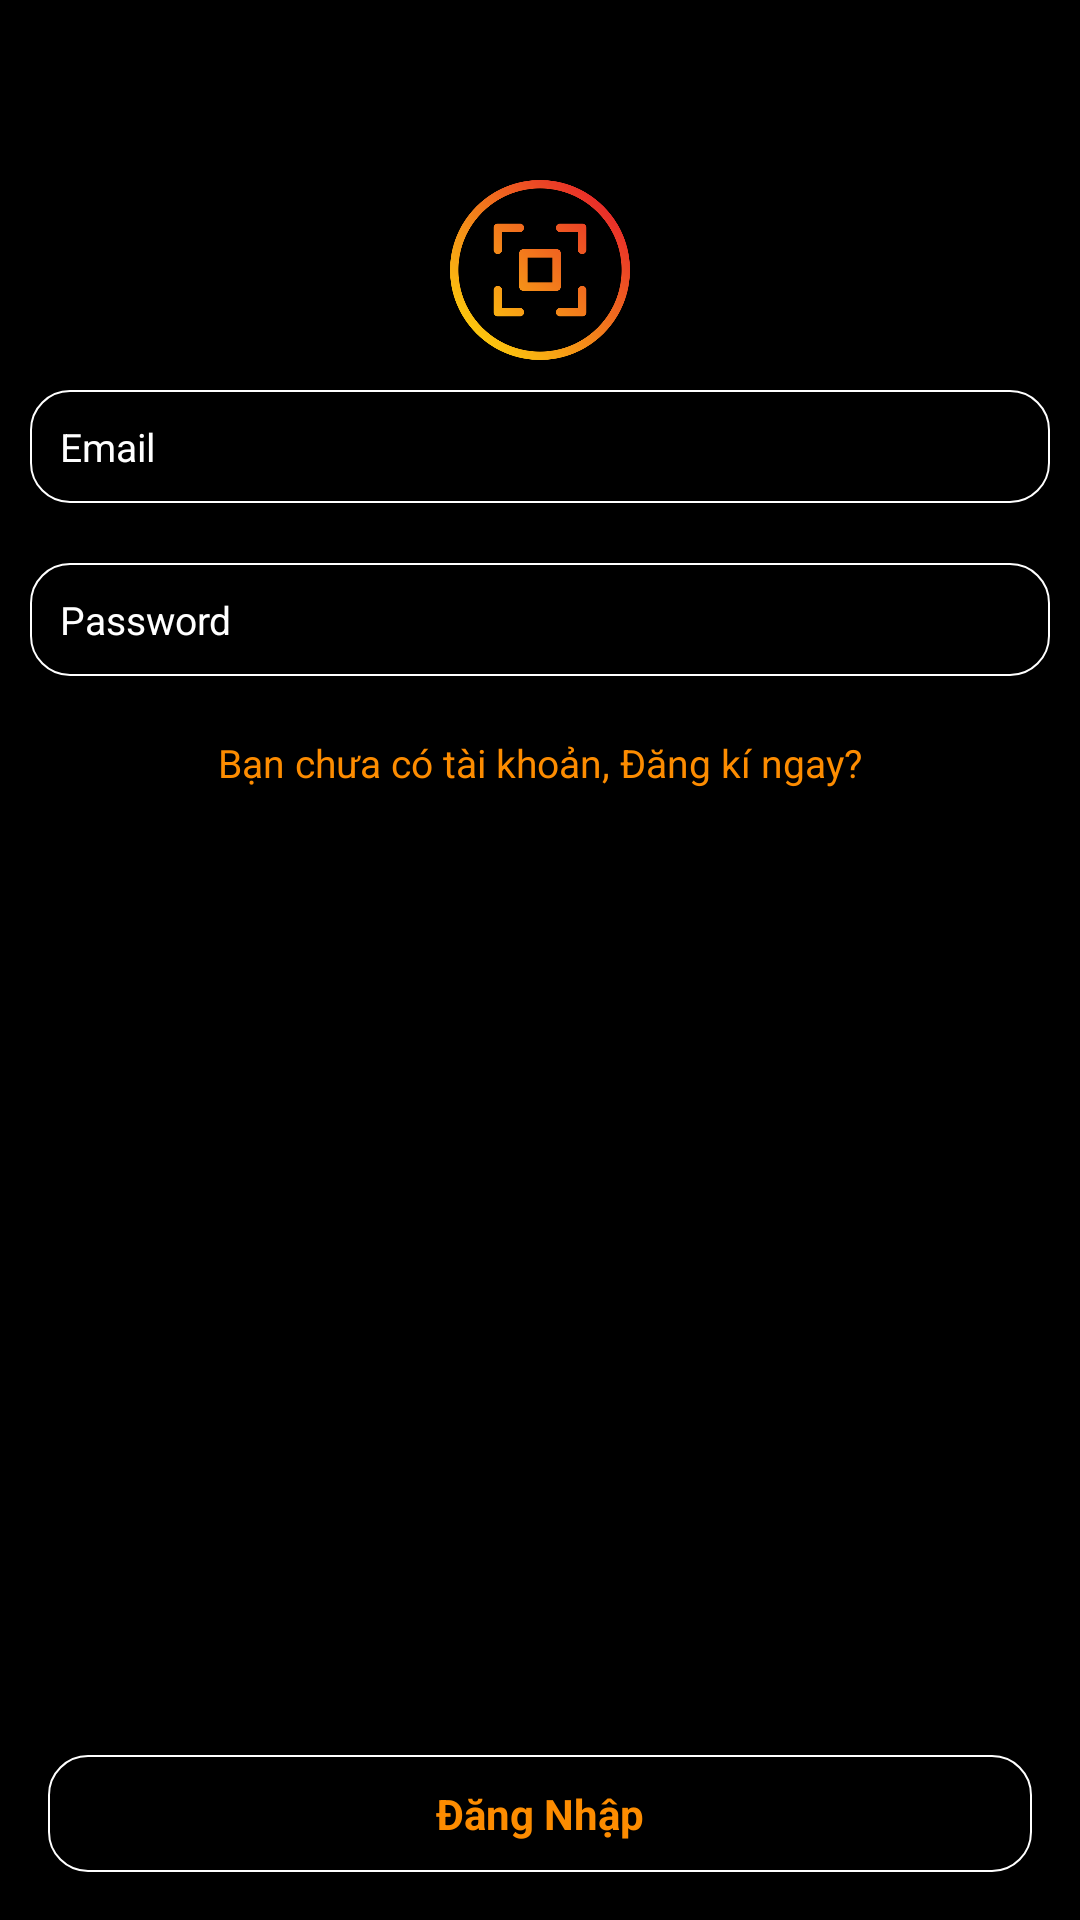

Icons on this 1080*1920 Android screen, each with its box as box=[x1, y1, x2, y2]:
qr scaner: box=[450, 180, 630, 360]
